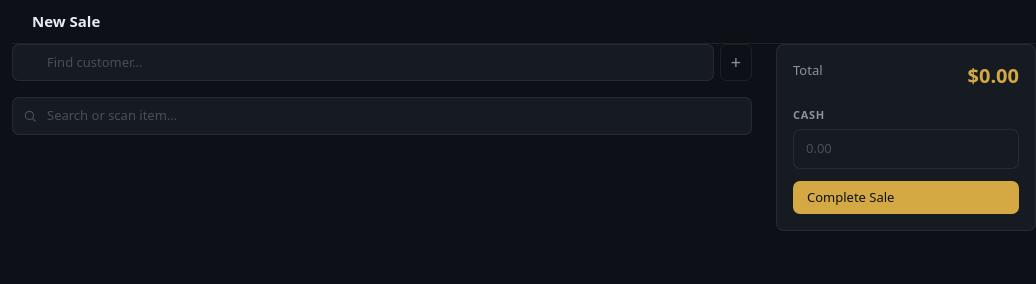
Test case: SaleScreen › displays the change due for a cash tender greater than the grand total
In the search field labelled "Search or scan item…": (382, 116) [12, 97, 752, 134], type "Diamond"
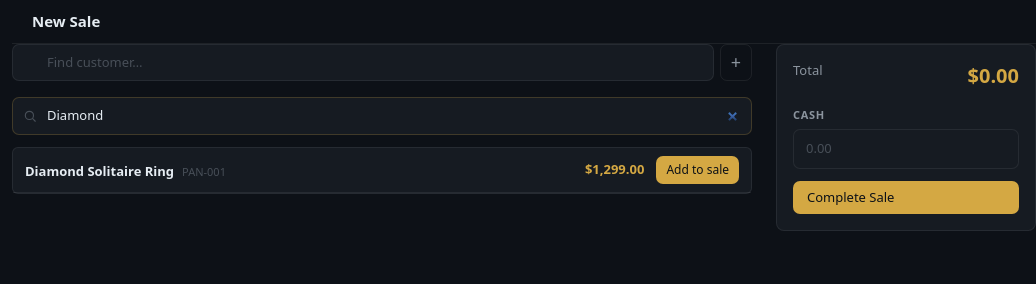
Click the button "Add to sale": (698, 170) [656, 156, 739, 184]
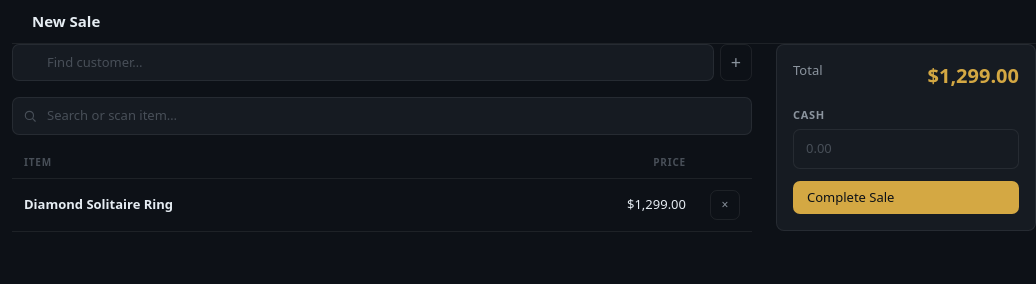
Result: the text "Diamond Solitaire Ring" is shown at [24, 195, 173, 213]
In the number field labelled "Cash": (906, 149) [793, 129, 1019, 168], type "1500"
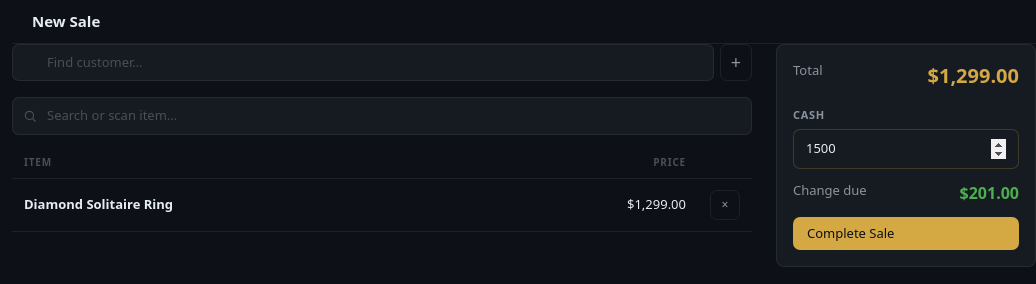
Result: the text "$201.00" is shown at [960, 180, 1019, 204]
